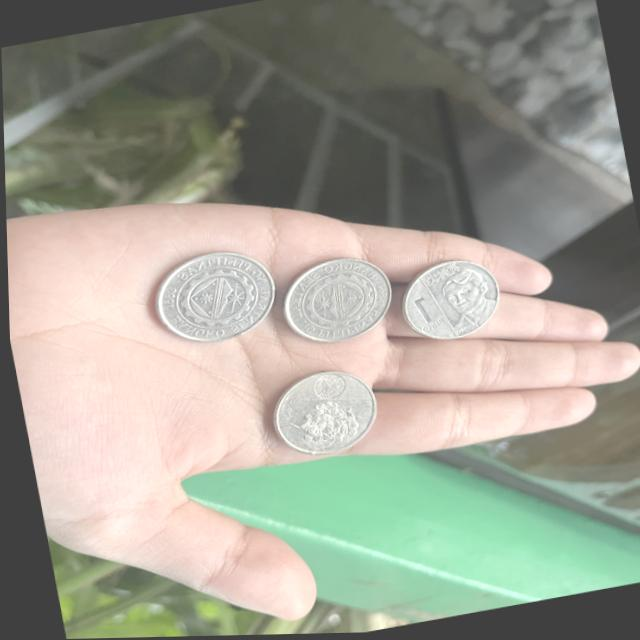1_New_Back: (280, 395, 367, 461)
1_New_Front: (406, 287, 452, 338)
1_Old_Back: (143, 240, 281, 351), (272, 254, 396, 350)
